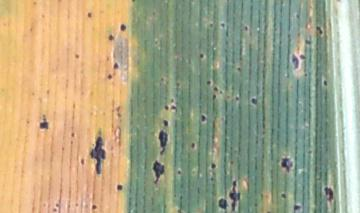tarspot: (88, 135, 107, 176), (228, 178, 241, 213), (150, 159, 166, 187), (158, 129, 169, 157), (37, 111, 50, 133), (280, 154, 293, 174), (322, 185, 335, 203), (289, 53, 301, 72), (176, 193, 184, 213), (217, 197, 228, 210), (315, 23, 324, 38), (114, 104, 123, 119), (195, 184, 201, 205), (198, 112, 208, 124), (111, 60, 121, 71), (291, 203, 301, 213), (114, 182, 124, 191), (161, 118, 170, 128), (119, 23, 128, 33), (225, 1, 230, 18), (169, 104, 178, 113), (95, 127, 104, 136), (27, 25, 35, 35), (163, 103, 170, 114), (299, 53, 308, 61), (304, 38, 312, 47), (197, 51, 205, 60), (204, 78, 212, 87), (189, 141, 197, 150), (175, 168, 183, 177), (87, 89, 96, 97), (285, 33, 292, 43), (80, 155, 86, 166), (250, 97, 258, 105), (322, 79, 330, 87), (107, 34, 115, 42), (105, 73, 113, 81), (174, 80, 182, 88), (252, 201, 260, 209), (190, 168, 198, 176), (280, 191, 287, 200), (207, 21, 214, 30), (86, 11, 93, 20), (69, 130, 76, 139), (158, 76, 165, 85), (97, 8, 106, 15), (153, 38, 159, 48), (306, 15, 312, 25), (294, 11, 301, 19), (218, 21, 225, 29), (209, 162, 217, 169), (44, 88, 52, 95), (208, 175, 215, 183), (302, 70, 309, 78), (213, 84, 219, 93), (104, 54, 110, 63), (73, 52, 80, 59), (233, 95, 240, 102), (24, 118, 31, 125), (71, 102, 78, 109), (243, 24, 249, 32), (218, 88, 224, 96), (210, 94, 218, 100), (168, 98, 176, 104), (68, 139, 76, 145), (50, 207, 58, 213), (306, 148, 312, 156), (296, 31, 302, 39), (40, 13, 47, 19), (235, 66, 242, 72), (54, 201, 60, 208), (60, 145, 66, 152), (73, 201, 79, 208), (91, 204, 97, 210), (307, 4, 313, 10), (30, 91, 36, 97), (151, 9, 156, 16), (30, 1, 38, 5), (229, 158, 233, 166), (334, 1, 343, 4), (264, 210, 272, 213), (55, 1, 63, 4), (130, 1, 137, 4)
